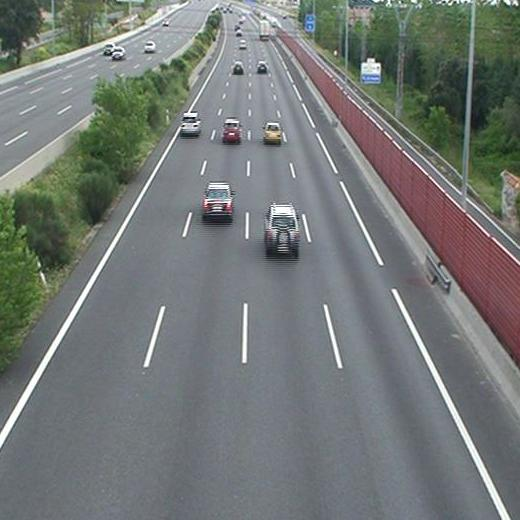car: (265, 204, 299, 253), (202, 184, 233, 216), (182, 113, 200, 134), (263, 123, 282, 141), (223, 120, 240, 140), (232, 62, 243, 71), (257, 61, 266, 71), (239, 40, 247, 50)
truck: (258, 19, 271, 40)
